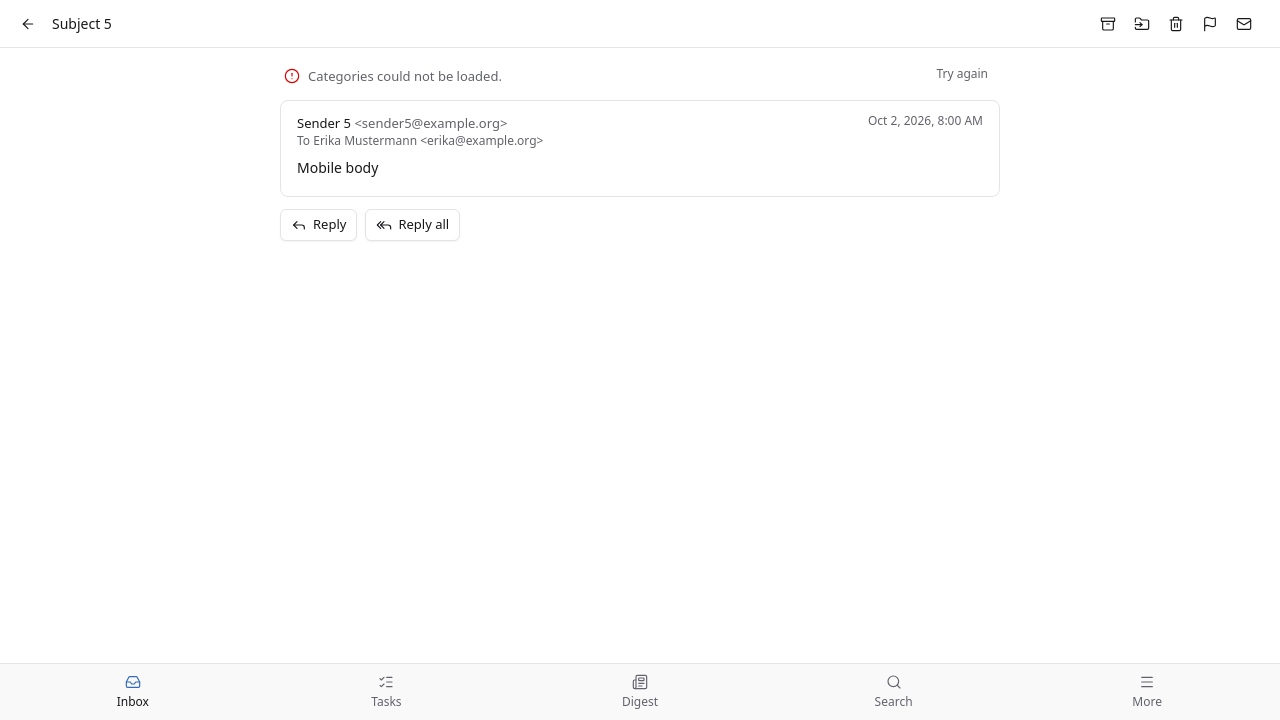
Scenario: inbox › stacks list and message on narrow screens
Expected: the heading "Subject 5" is shown, [52,14,112,34]
Expected: the text "Mobile body" is shown, [297,158,378,177]
Click the button named "Back to the list" at [28, 24], box [12,8,44,40]
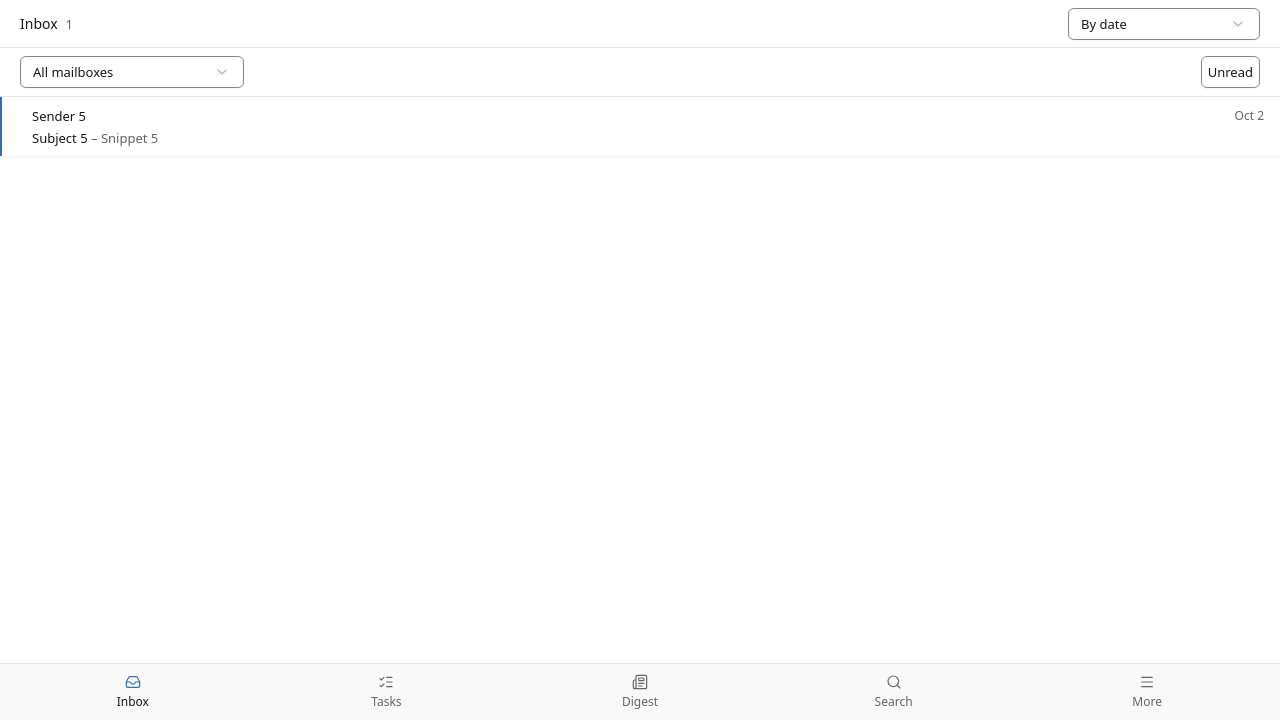
Expected: the list named "Messages" is shown, [0,97,1279,157]
